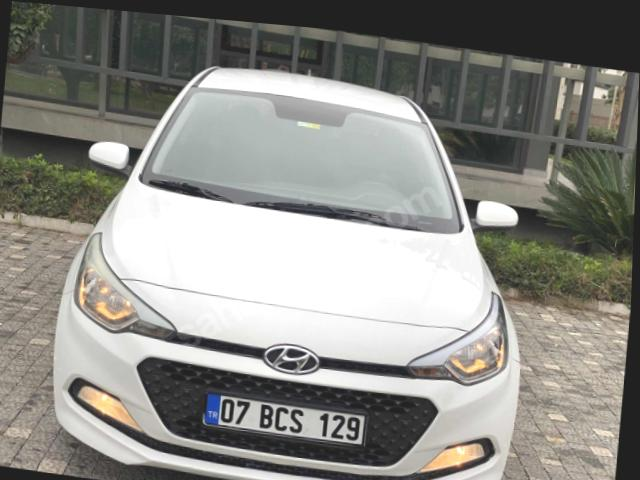plaka: (203, 393, 366, 445)
